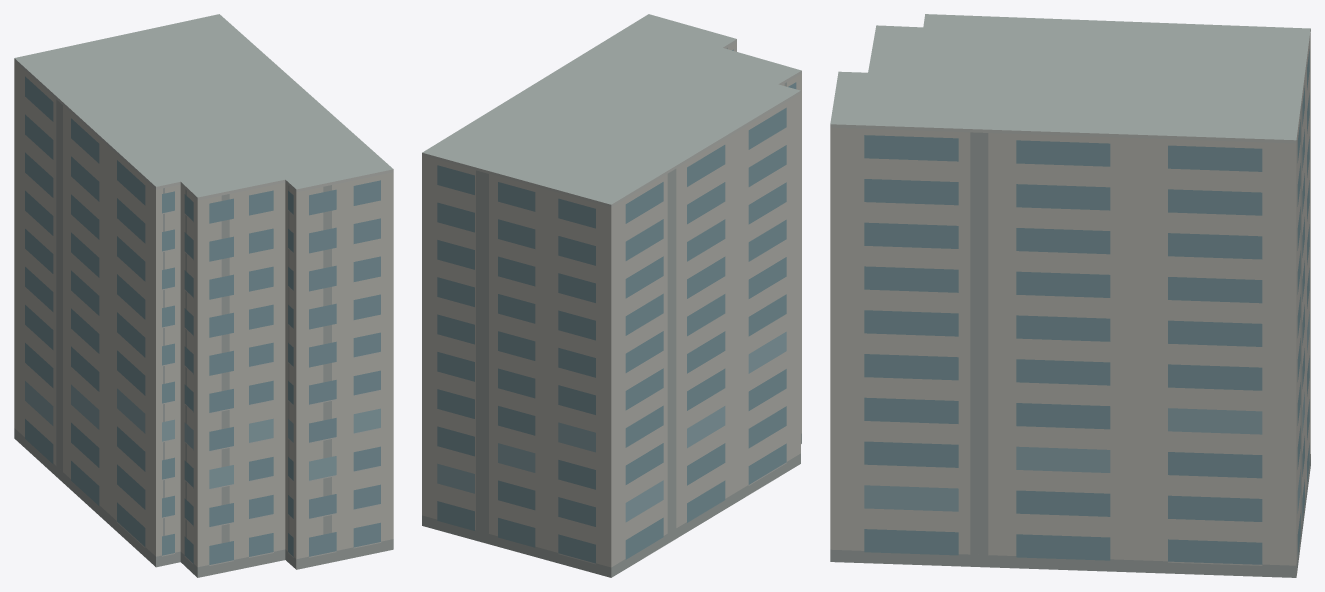
The model's file is residential-5d00de4b-0f77-43cc-9faa-b12e883beeca.glb.
3 views of the same model, side by side, from view 1: azimuth 30°, elevation 25°; view 2: azimuth 150°, elevation 25°; view 3: azimuth 270°, elevation 25° (orthographic). The views are drawn at different scales.
Visible parts, largest first — view 1: residential-5d00de4b-0f77-43cc-9faa-b12e883beeca.tmp; view 2: residential-5d00de4b-0f77-43cc-9faa-b12e883beeca.tmp; view 3: residential-5d00de4b-0f77-43cc-9faa-b12e883beeca.tmp.
Part boxes in pixels (bbox=[...]): residential-5d00de4b-0f77-43cc-9faa-b12e883beeca.tmp: bbox=[14, 14, 393, 577]; residential-5d00de4b-0f77-43cc-9faa-b12e883beeca.tmp: bbox=[422, 14, 801, 577]; residential-5d00de4b-0f77-43cc-9faa-b12e883beeca.tmp: bbox=[830, 14, 1310, 577].
Bounding box in the file's own units: 19.8 × 32 × 31.85.
